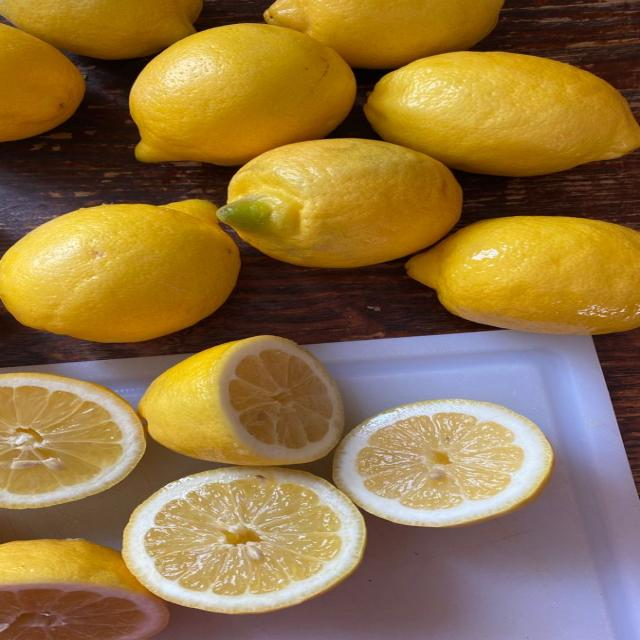lemon: (124, 467, 365, 613), (0, 200, 239, 342), (365, 52, 639, 175), (130, 24, 355, 165), (219, 139, 461, 267), (333, 399, 553, 526), (407, 216, 639, 333), (139, 335, 344, 465), (0, 373, 145, 508), (0, 540, 168, 639), (265, 0, 503, 68), (0, 0, 202, 59), (0, 24, 84, 141)
